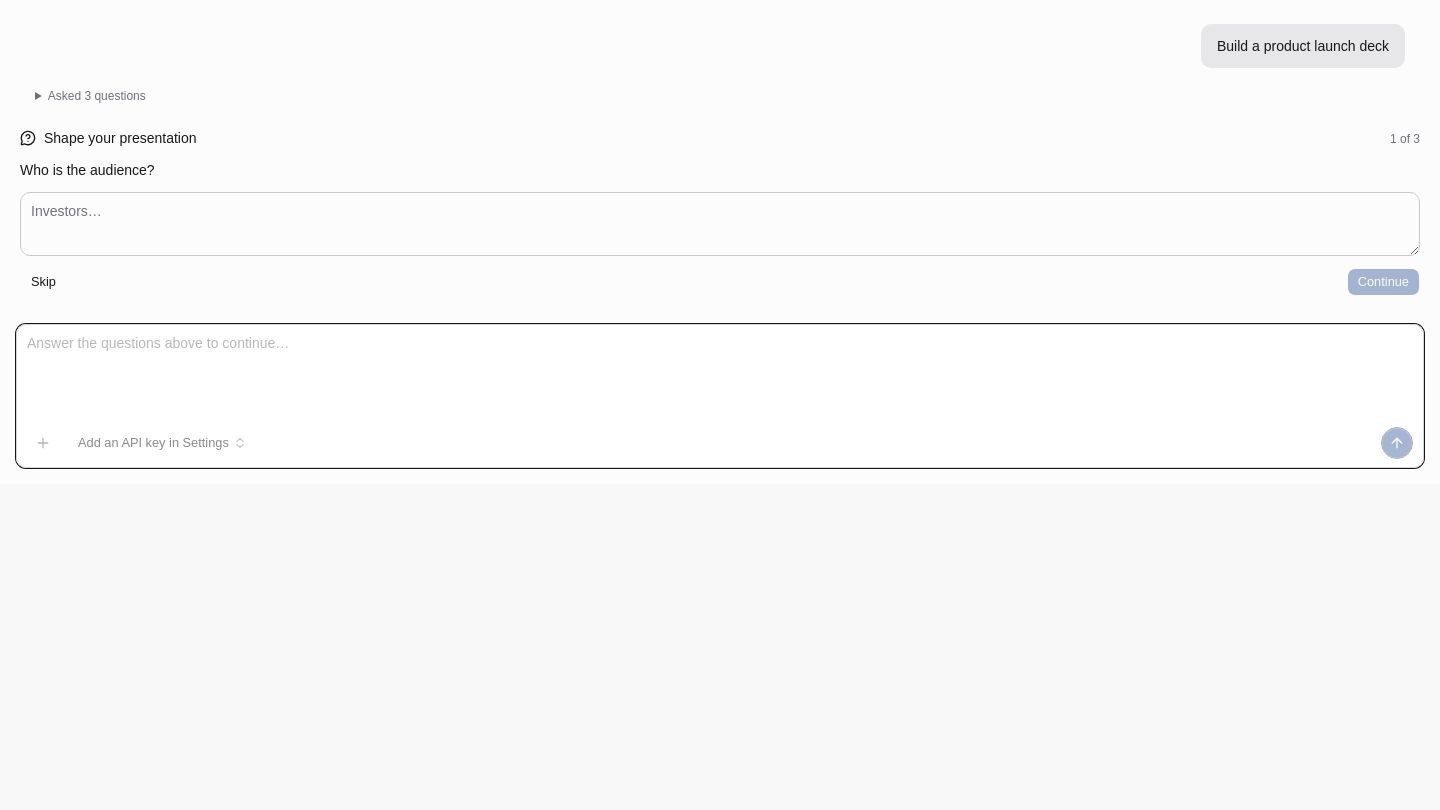
Test: ChatPanel submit control › renders ask_user questions one at a time above the composer
Later steps or results of the test are not shown.
Expected: the text "Who is the audience?" is shown, [20, 162, 155, 178]
Expected: the text "How many slides should it be?" is not shown
Type "Customers" into the text box labelled "Who is the audience?". click: (720, 224)
box: [20, 192, 1420, 256]
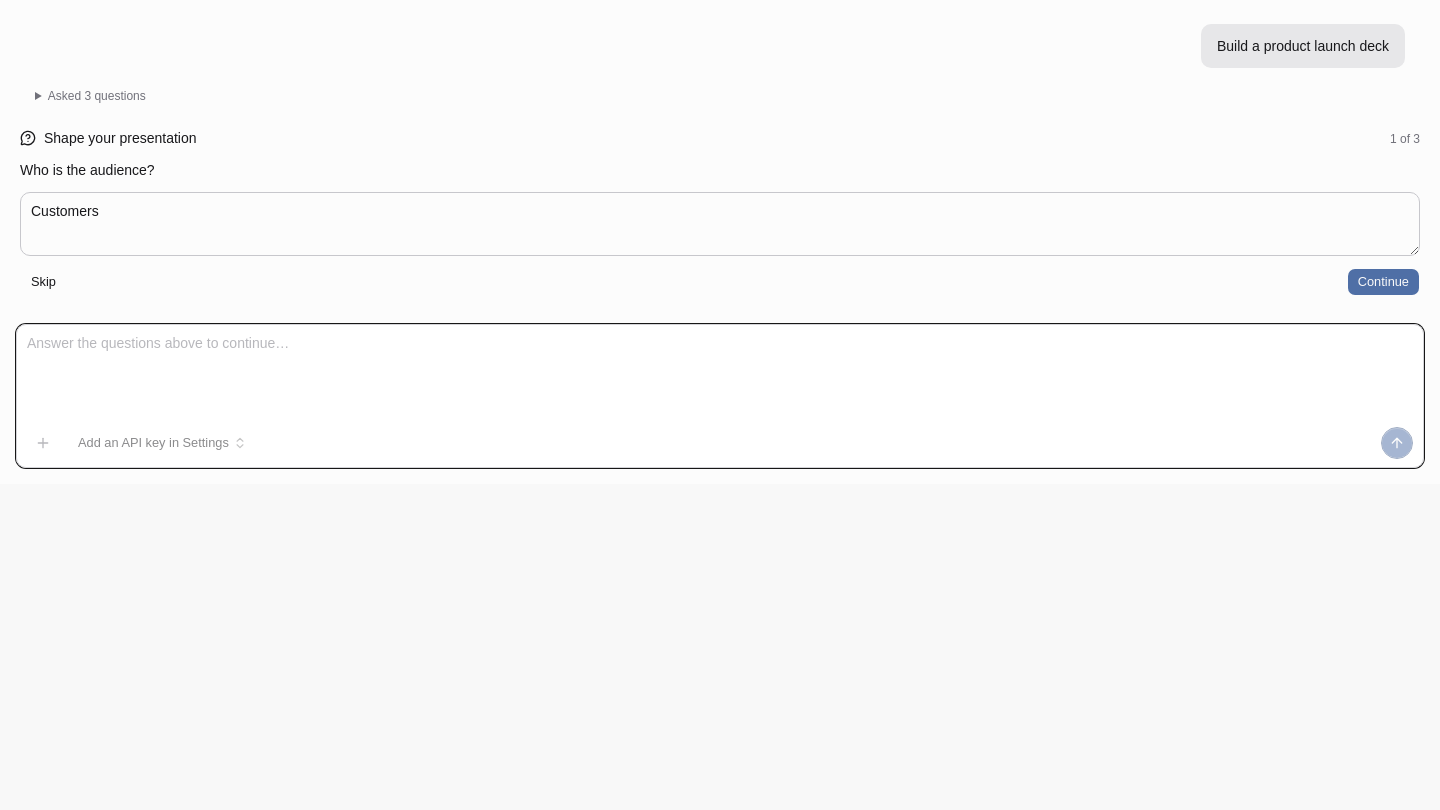
Click the button "Continue". click: (1383, 282)
box: [1347, 268, 1420, 296]
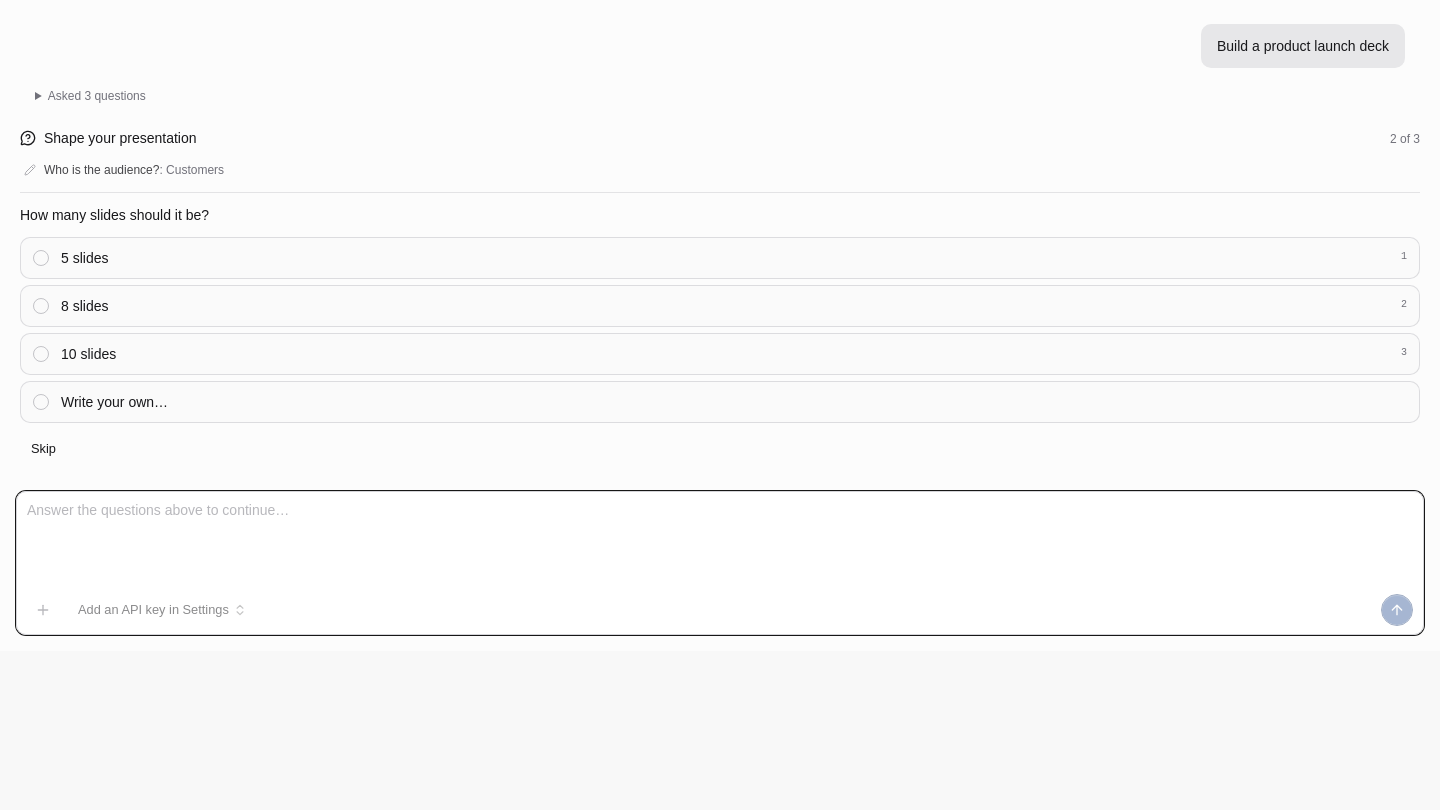
Expected: the text "How many slides should it be?" is shown, [20, 207, 209, 223]
Click the button "8 slides 2". click: (85, 306)
box: [20, 285, 1420, 327]
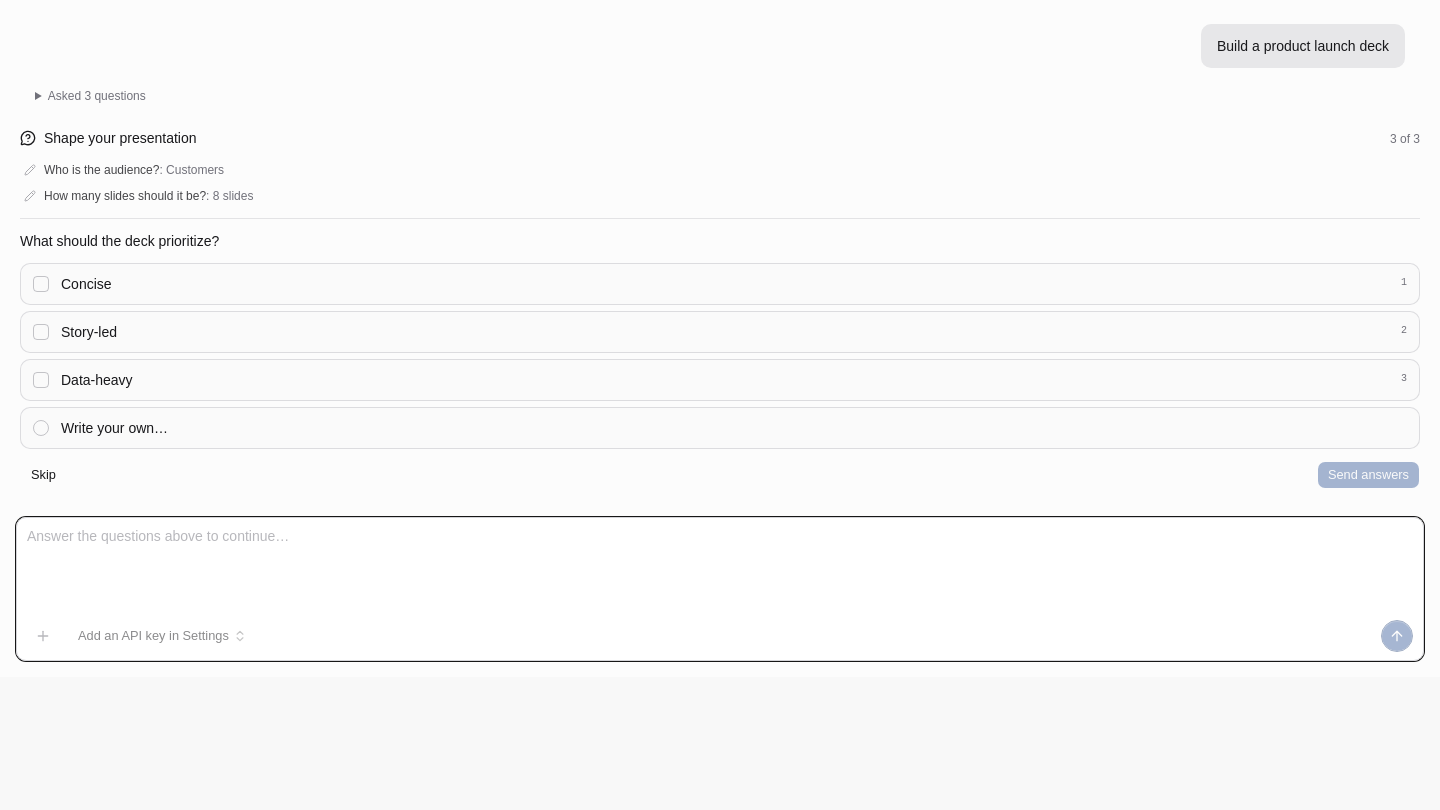
Expected: the text "What should the deck prioritize?" is shown, [20, 233, 219, 249]
